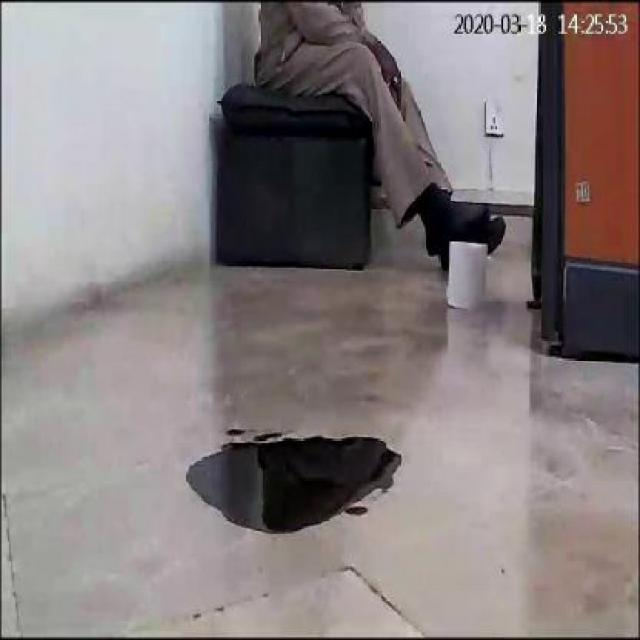spill: (185, 424, 402, 536)
